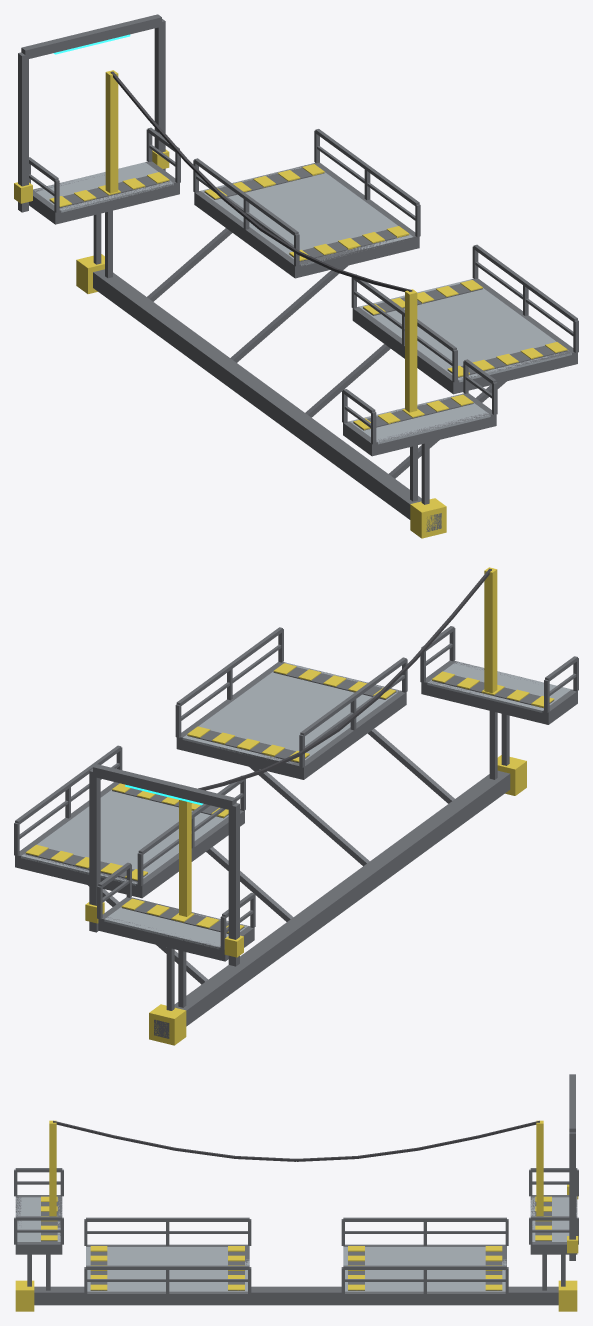
The model's file is scaffold_catenary_span.glb.
3 renders of one model, top to bottom at view 1: azimuth 30°, elevation 25°; view 2: azimuth 150°, elevation 25°; view 3: azimuth 270°, elevation 25°, orthographic. The views are drawn at different scales.
Visible parts, largest first — view 1: Spine, Deck_s2, Deck_s1, Deck_b, Deck_a, PortalLintel, Header_s1_1, Frame_s1_-1, Header_a_1, Frame_s2_-1, Anchor_0, Header_b_1 (+13 smaller); view 2: Spine, Deck_s2, Deck_s1, Deck_a, Deck_b, PortalLintel, Frame_s2_-1, PortalPost_-1, Anchor_1, Header_s2_0, PortalPost_1, Header_a_0 (+18 smaller); view 3: Deck_s2, Deck_s1, Spine, Frame_s1_1, Frame_s2_1, Deck_b, Deck_a, Rail_s1_1, Rail_s2_1, Rail_s1_-1, Rail_s2_-1, PortalPost_1 (+15 smaller).
Part boxes in pixels (x1,y1,x2,y2): Spine: [93, 269, 441, 531]; Deck_s2: [359, 279, 571, 382]; Deck_s1: [200, 163, 412, 265]; Deck_b: [349, 394, 490, 444]; Deck_a: [33, 162, 173, 212]; PortalLintel: [21, 14, 161, 58]; Header_s1_1: [291, 236, 419, 278]; Frame_s1_-1: [194, 191, 300, 277]; Header_a_1: [52, 179, 178, 223]; Frame_s2_-1: [352, 306, 459, 394]; Anchor_0: [105, 70, 118, 193]; Header_b_1: [368, 412, 491, 455]; Spine: [154, 770, 510, 1038]; Deck_s2: [182, 662, 399, 763]; Deck_s1: [21, 790, 228, 885]; Deck_a: [104, 907, 247, 949]; Deck_b: [427, 661, 571, 712]; PortalLintel: [93, 764, 236, 810]; Frame_s2_-1: [297, 690, 405, 779]; PortalPost_-1: [228, 803, 239, 966]; Anchor_1: [484, 567, 497, 693]; Header_s2_0: [176, 737, 303, 779]; PortalPost_1: [89, 768, 100, 932]; Header_a_0: [98, 917, 227, 961]; Deck_s2: [86, 1247, 249, 1291]; Deck_s1: [343, 1247, 506, 1291]; Spine: [34, 1286, 558, 1305]; Frame_s1_1: [343, 1291, 505, 1303]; Frame_s2_1: [86, 1291, 249, 1303]; Deck_b: [15, 1197, 62, 1241]; Deck_a: [530, 1197, 577, 1241]; Rail_s1_1: [343, 1265, 506, 1269]; Rail_s2_1: [86, 1265, 249, 1269]; Rail_s1_-1: [343, 1217, 506, 1221]; Rail_s2_-1: [86, 1217, 249, 1221]; PortalPost_1: [569, 1132, 575, 1260].
Size of the model in its own units: 5.24 by 4.84 by 12.07.
